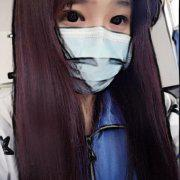OK: (53, 8, 129, 91)
